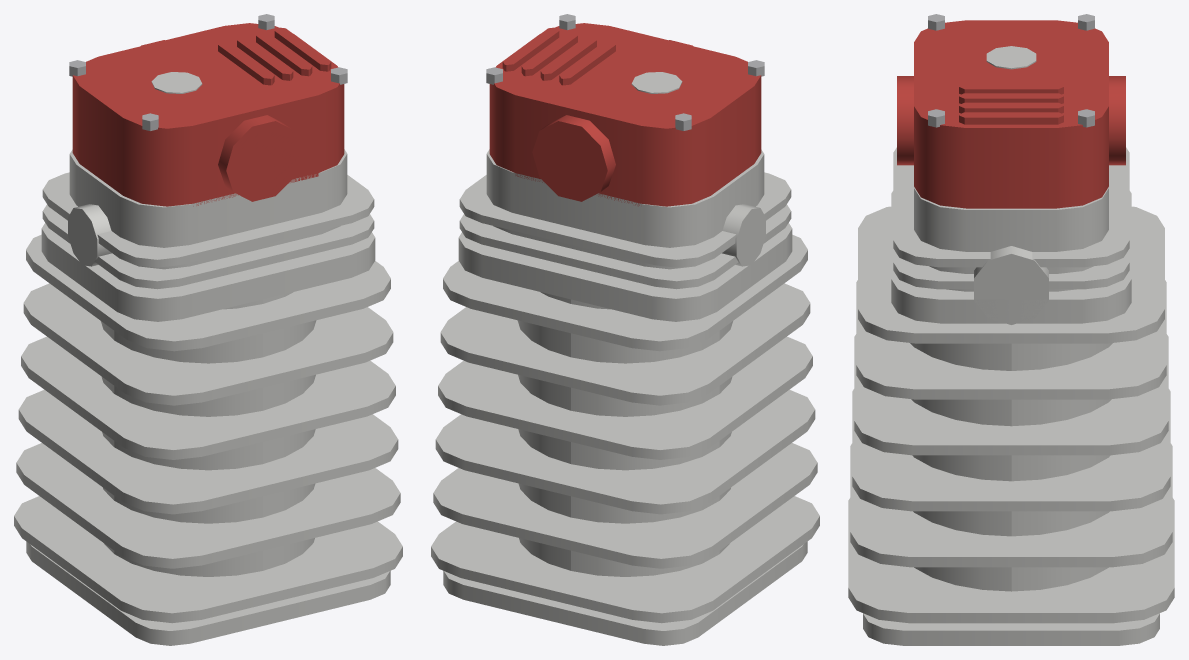
Rendered from hot_cam_lod1.glb.
3 views of the same model, side by side, from view 1: azimuth 30°, elevation 25°; view 2: azimuth 150°, elevation 25°; view 3: azimuth 270°, elevation 25° (orthographic). The views are drawn at different scales.
Parts seen in each view (by area): view 1: hot_cam_lod1; view 2: hot_cam_lod1; view 3: hot_cam_lod1.
Part boxes in pixels (bbox=[...]): hot_cam_lod1: bbox=[14, 14, 402, 645]; hot_cam_lod1: bbox=[431, 14, 819, 645]; hot_cam_lod1: bbox=[848, 14, 1174, 645].
Size of the model in its own units: 0.174 by 0.3043 by 0.174.
